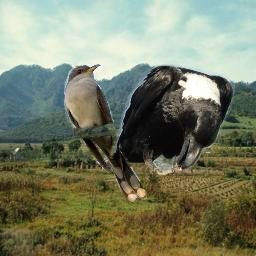Crow: (103, 62, 235, 179)
Cuckoo: (64, 64, 147, 202)
